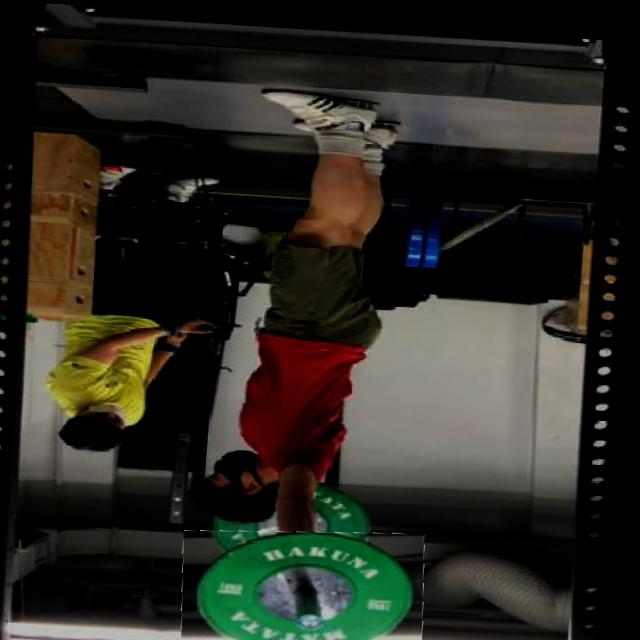barbell: (187, 520, 437, 640)
